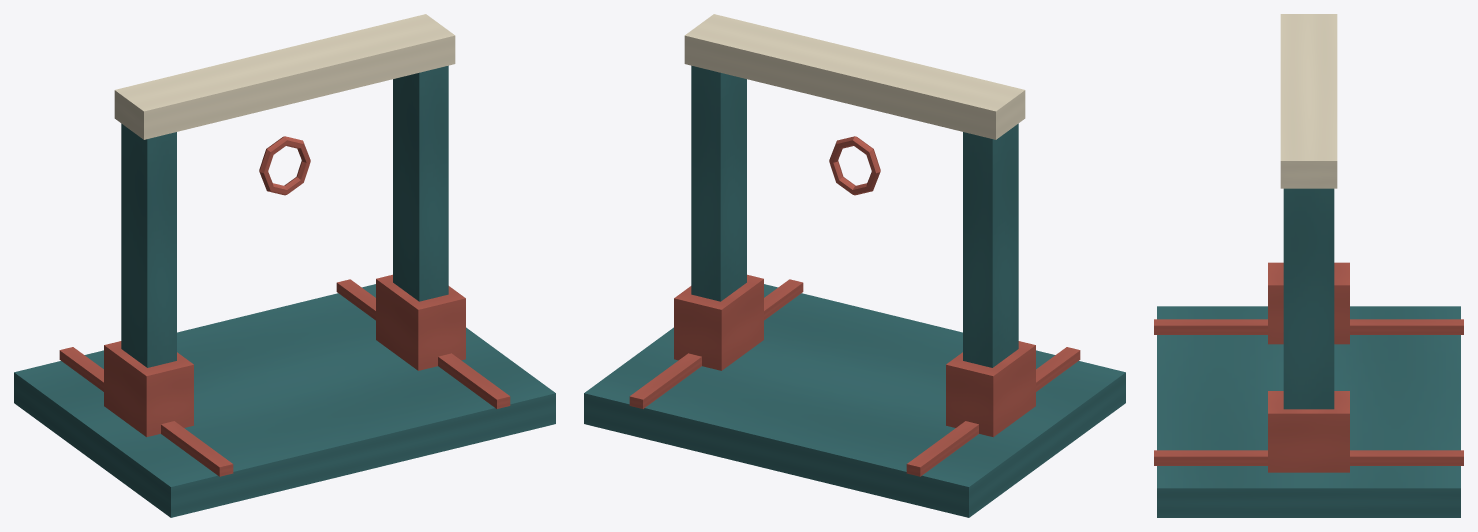
The model's file is atlas100-s038-a02.lod2.glb.
3 views of the same model, side by side, from view 1: azimuth 30°, elevation 25°; view 2: azimuth 150°, elevation 25°; view 3: azimuth 270°, elevation 25° (orthographic). The views are drawn at different scales.
Parts seen in each view (by area): view 1: atlas100-s038-a02:part-000, atlas100-s038-a02:part-007, atlas100-s038-a02:part-003, atlas100-s038-a02:part-005, atlas100-s038-a02:part-006, atlas100-s038-a02:part-004, atlas100-s038-a02:part-001, atlas100-s038-a02:part-002, atlas100-s038-a02:part-009; view 2: atlas100-s038-a02:part-000, atlas100-s038-a02:part-007, atlas100-s038-a02:part-003, atlas100-s038-a02:part-005, atlas100-s038-a02:part-006, atlas100-s038-a02:part-004, atlas100-s038-a02:part-001, atlas100-s038-a02:part-002, atlas100-s038-a02:part-009; view 3: atlas100-s038-a02:part-000, atlas100-s038-a02:part-005, atlas100-s038-a02:part-007, atlas100-s038-a02:part-006, atlas100-s038-a02:part-001, atlas100-s038-a02:part-002, atlas100-s038-a02:part-004.
Part boxes in pixels (x1=…): atlas100-s038-a02:part-000: x1=14, y1=284, x2=555, y2=517; atlas100-s038-a02:part-007: x1=114, y1=14, x2=455, y2=139; atlas100-s038-a02:part-003: x1=121, y1=123, x2=176, y2=367; atlas100-s038-a02:part-005: x1=393, y1=65, x2=448, y2=301; atlas100-s038-a02:part-006: x1=376, y1=274, x2=465, y2=370; atlas100-s038-a02:part-004: x1=104, y1=341, x2=193, y2=437; atlas100-s038-a02:part-001: x1=59, y1=347, x2=233, y2=476; atlas100-s038-a02:part-002: x1=336, y1=279, x2=510, y2=408; atlas100-s038-a02:part-009: x1=259, y1=136, x2=310, y2=195; atlas100-s038-a02:part-000: x1=584, y1=284, x2=1125, y2=517; atlas100-s038-a02:part-007: x1=684, y1=14, x2=1025, y2=139; atlas100-s038-a02:part-003: x1=963, y1=123, x2=1018, y2=367; atlas100-s038-a02:part-005: x1=691, y1=65, x2=746, y2=301; atlas100-s038-a02:part-006: x1=674, y1=274, x2=763, y2=370; atlas100-s038-a02:part-004: x1=946, y1=341, x2=1035, y2=437; atlas100-s038-a02:part-001: x1=906, y1=347, x2=1080, y2=476; atlas100-s038-a02:part-002: x1=629, y1=279, x2=803, y2=408; atlas100-s038-a02:part-009: x1=829, y1=136, x2=880, y2=195; atlas100-s038-a02:part-000: x1=1157, y1=306, x2=1460, y2=517; atlas100-s038-a02:part-005: x1=1283, y1=188, x2=1334, y2=409; atlas100-s038-a02:part-007: x1=1280, y1=14, x2=1337, y2=188; atlas100-s038-a02:part-006: x1=1268, y1=391, x2=1349, y2=472; atlas100-s038-a02:part-001: x1=1154, y1=319, x2=1463, y2=334; atlas100-s038-a02:part-002: x1=1154, y1=450, x2=1463, y2=465; atlas100-s038-a02:part-004: x1=1268, y1=262, x2=1349, y2=344.
Size of the model in its own units: 3.4 by 2.96 by 2.45.
3 materials, 3 textured.
